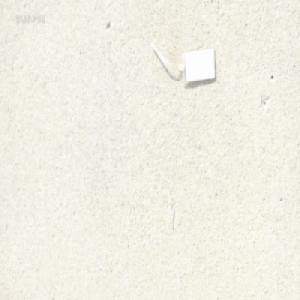LuggageTag: (146, 43, 217, 86)
